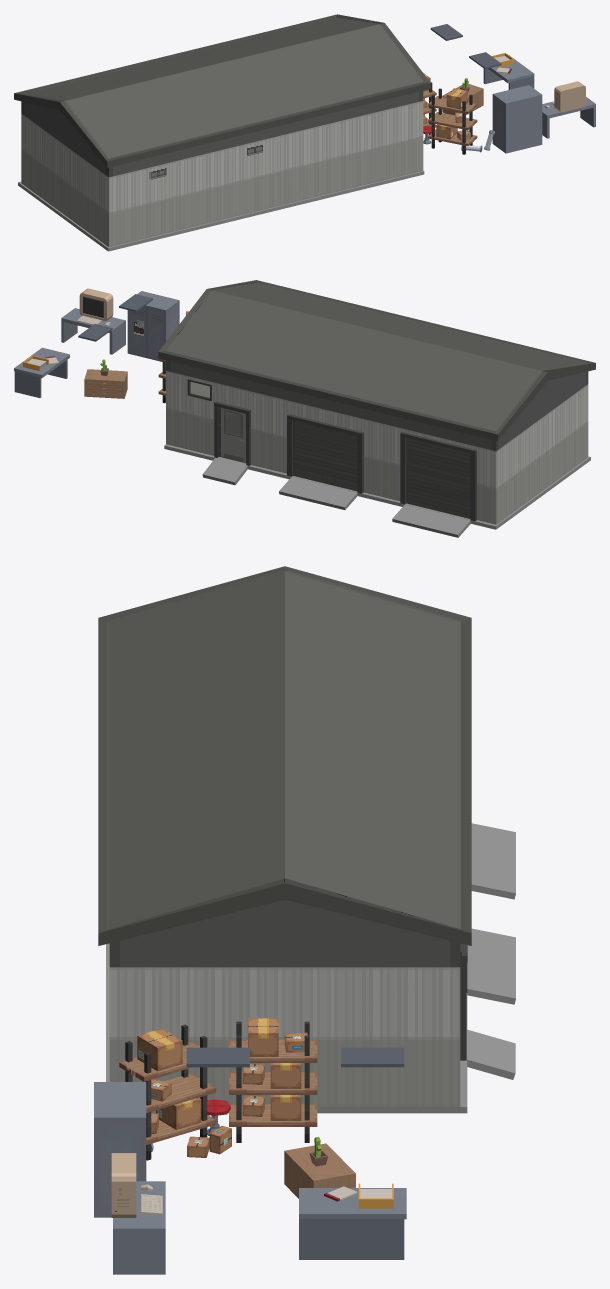
File: Garage.gltf
The picture shows the model from 3 angles, top to bottom: view 1: azimuth 30°, elevation 25°; view 2: azimuth 150°, elevation 25°; view 3: azimuth 270°, elevation 25°; orthographic projection. The views are drawn at different scales.
Parts seen in each view (by area): view 1: cuboid (×14); view 2: cuboid (×27), dwer; view 3: cuboid (×14).
Part boxes in pixels (x1,y1,x2,y2): cuboid (×14): [14, 14, 595, 251]; cuboid (×27): [14, 280, 595, 537]; dwer: [218, 407, 246, 463]; cuboid (×14): [94, 566, 515, 1274].
Bounding box in the file's own units: 10.15 × 2.45 × 3.76.
6 materials, 6 textured.
